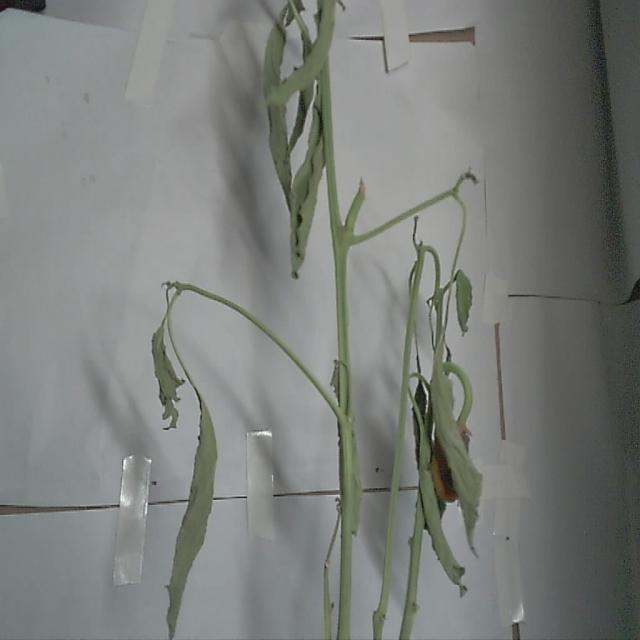Leaf: (428, 314, 488, 560), (165, 383, 218, 640), (261, 2, 297, 209), (287, 94, 327, 272), (150, 305, 185, 425)
